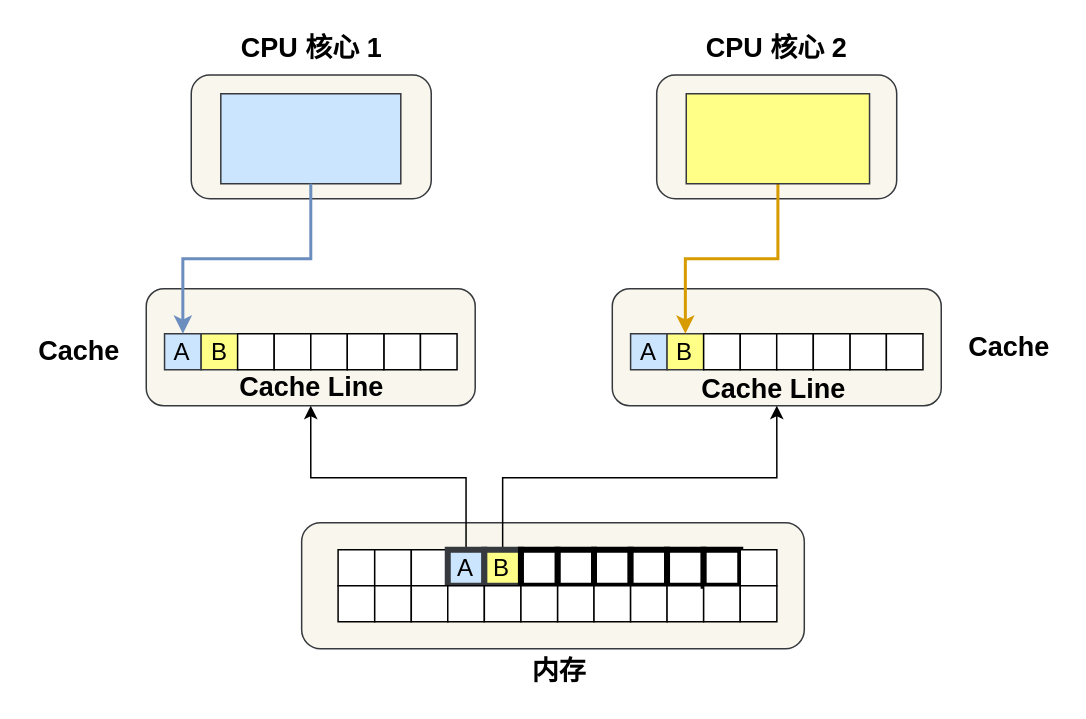
Some shapes in this 1086 by 719 pixel diagram are drawn without their labels. The shapes that lost their labels are listed below. From the top down, each one's box as (x1, y1, x2, y2) in pixels, then its label:
(219, 92, 401, 184): A 线程
(685, 92, 870, 184): B 线程
